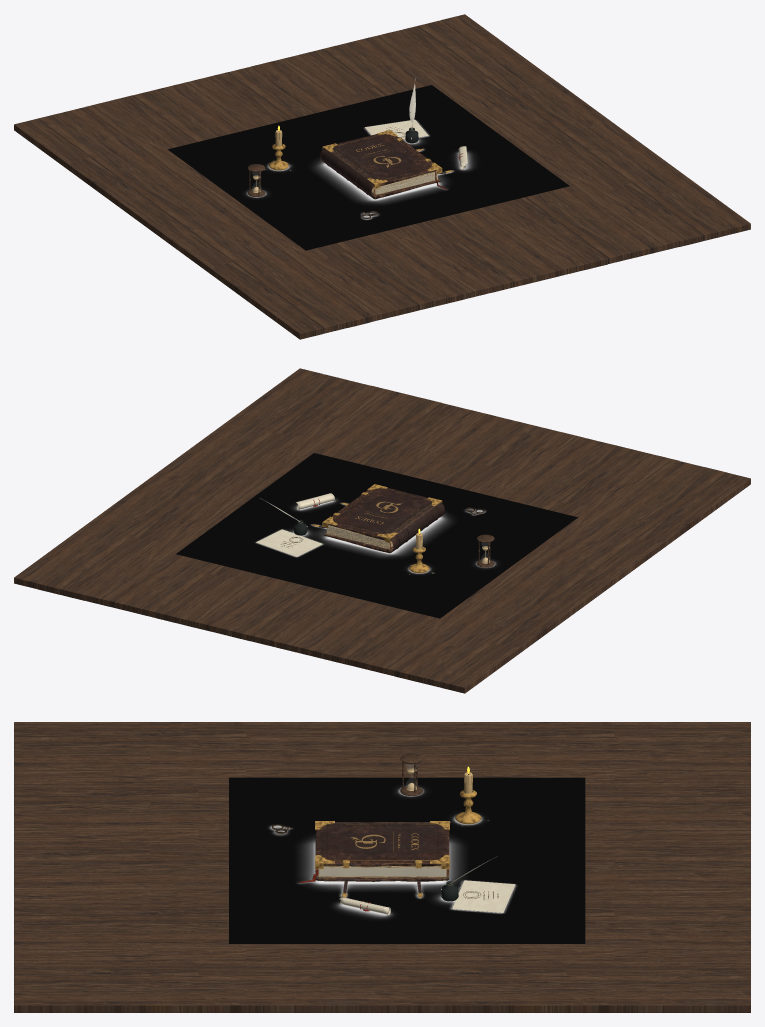
The model's file is scene_codex_v4.glb.
The picture shows the model from 3 angles, top to bottom: view 1: azimuth 30°, elevation 25°; view 2: azimuth 150°, elevation 25°; view 3: azimuth 270°, elevation 25°; orthographic projection. The views are drawn at different scales.
Parts seen in each view (by area): view 1: Web Smoked walnut • long grain, CONTACT_AO, Front cover, Web Warm rag paper, Web Leather turned over the board edges; view 2: Web Smoked walnut • long grain, CONTACT_AO, Front cover, Web Warm rag paper, Web Leather turned over the board edges; view 3: Web Smoked walnut • long grain, CONTACT_AO, Front cover, Web Warm rag paper, Web Binding brass cover, Back board, Web Turned walnut, Web Aged brass.
Boxes of the visible parts, left/top/right/bottom form: Web Smoked walnut • long grain: left=14, top=14, right=750, bottom=339; CONTACT_AO: left=168, top=85, right=569, bottom=250; Front cover: left=323, top=134, right=436, bottom=186; Web Warm rag paper: left=365, top=119, right=467, bottom=194; Web Leather turned over the board edges: left=320, top=148, right=446, bottom=199; Web Smoked walnut • long grain: left=14, top=368, right=750, bottom=693; CONTACT_AO: left=176, top=453, right=577, bottom=618; Front cover: left=328, top=488, right=441, bottom=540; Web Warm rag paper: left=256, top=493, right=388, bottom=556; Web Leather turned over the board edges: left=318, top=502, right=444, bottom=553; Web Smoked walnut • long grain: left=14, top=722, right=750, bottom=1012; CONTACT_AO: left=229, top=777, right=585, bottom=943; Front cover: left=315, top=822, right=449, bottom=866; Web Warm rag paper: left=318, top=867, right=515, bottom=914; Web Binding brass cover: left=315, top=821, right=449, bottom=869; Back board: left=315, top=869, right=449, bottom=881; Web Turned walnut: left=400, top=753, right=422, bottom=795; Web Aged brass: left=446, top=790, right=481, bottom=885.
Bounding box in the file's own units: 21.85 × 2.5 × 24.
39 materials, 13 textured.
